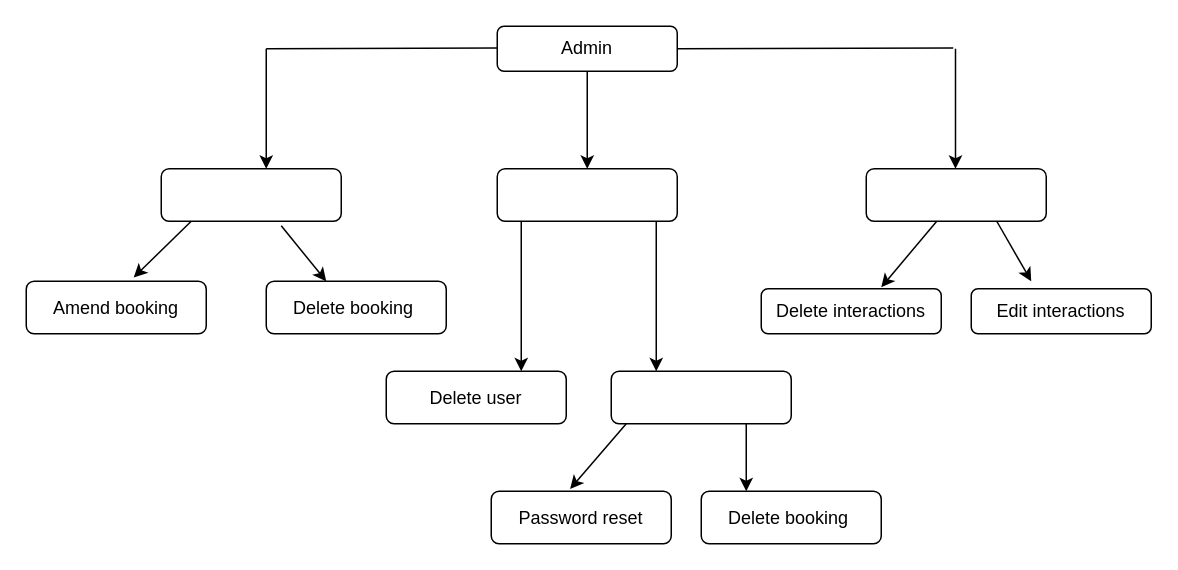
The diagram is 1178 pixels wide and 570 high, and some of its shapes have lost their labels. Each missing label, with the centre of its shape:
Amend user details: point 700,397
View bookings: point 250,194
View posts/comments: point 955,194
View users: point 586,194
